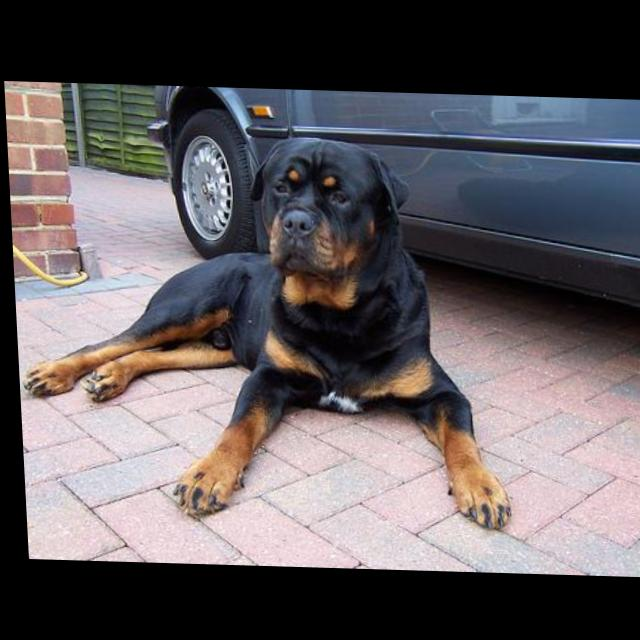rottweiler: (10, 128, 510, 530)
